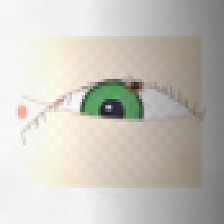foreign_body_visible: (44, 87, 71, 108)
